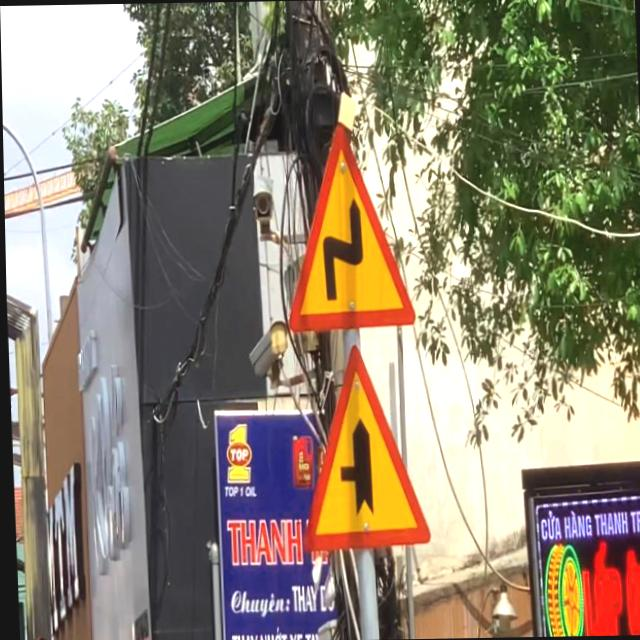Giao nhau voi duong khong uu tien ben trai: (290, 337, 430, 556)
Nhieu cho ngoat lien tiep ben phai: (278, 117, 416, 336)
